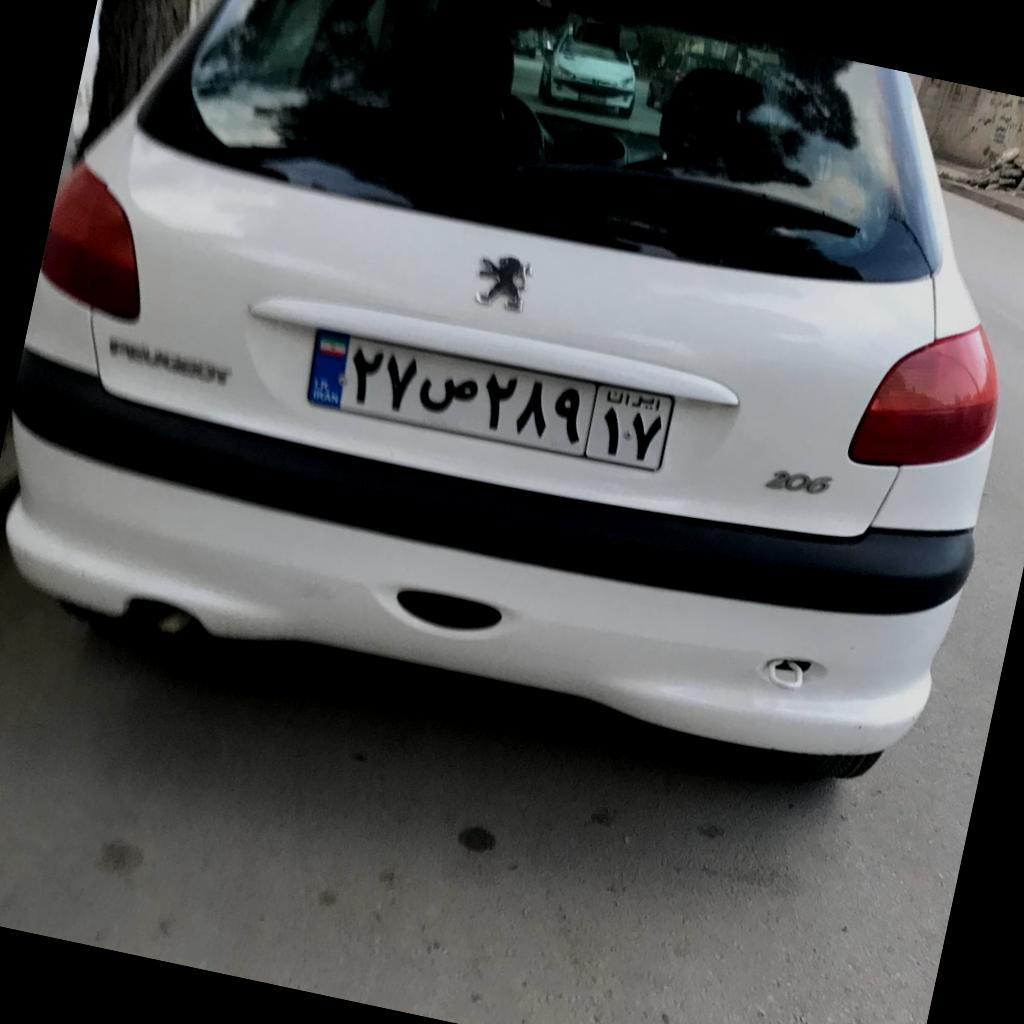Plates: (307, 329, 674, 472)
